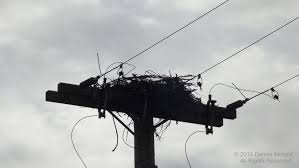bird-nest: (117, 79, 204, 105)
